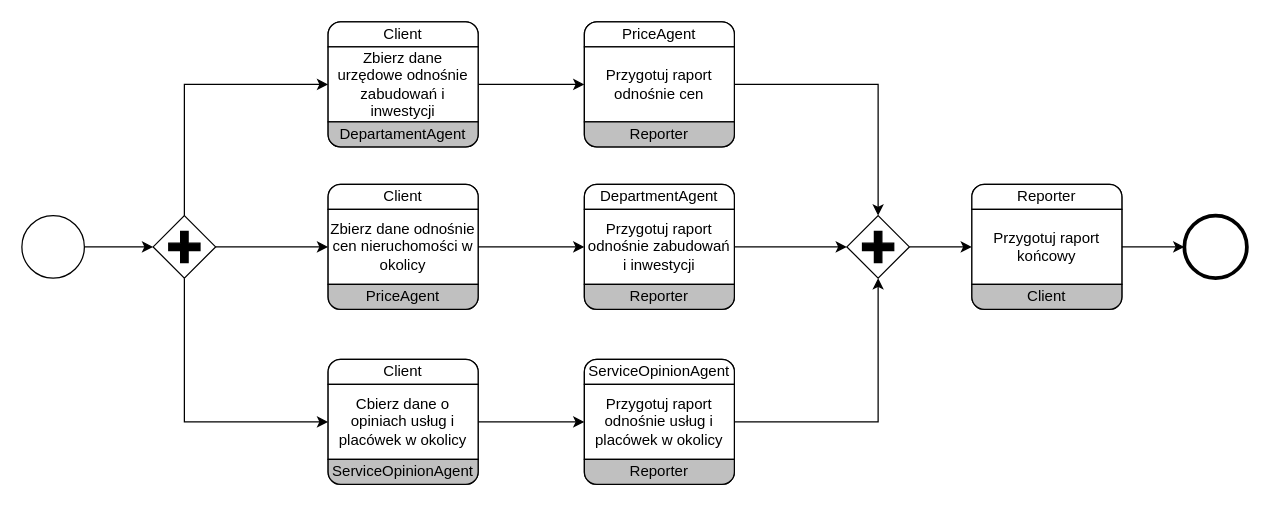
Image size: 1269x506. Some labels were removed from this diagram. The shapes that lost their labels are listed below. From the top down, each one's box as (x1, y1, x2, y2) in pixels, then its label:
(21, 214, 84, 278): START
(1183, 214, 1247, 278): KONIEC
